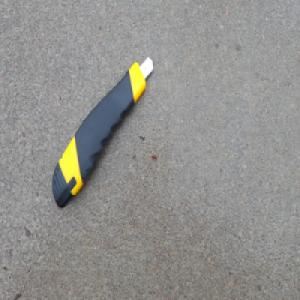Cutter: (52, 54, 154, 209)
